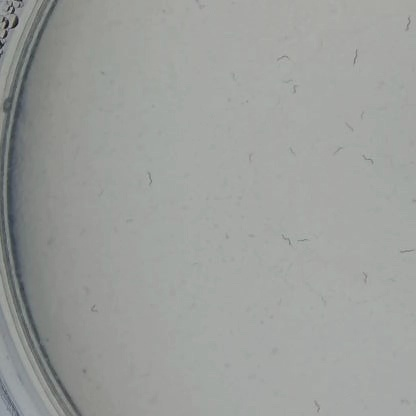worm: (393, 16, 416, 37), (389, 395, 413, 413), (275, 232, 294, 253), (141, 168, 155, 191), (296, 232, 312, 251), (348, 48, 362, 69), (397, 242, 416, 257), (85, 299, 99, 319), (275, 51, 292, 67), (310, 398, 322, 416), (245, 148, 255, 169), (342, 120, 357, 134), (331, 144, 346, 158), (191, 0, 206, 13), (289, 82, 303, 95), (228, 69, 240, 83), (360, 103, 369, 121), (361, 271, 373, 283), (280, 76, 293, 87), (288, 143, 298, 157), (320, 293, 328, 309)
